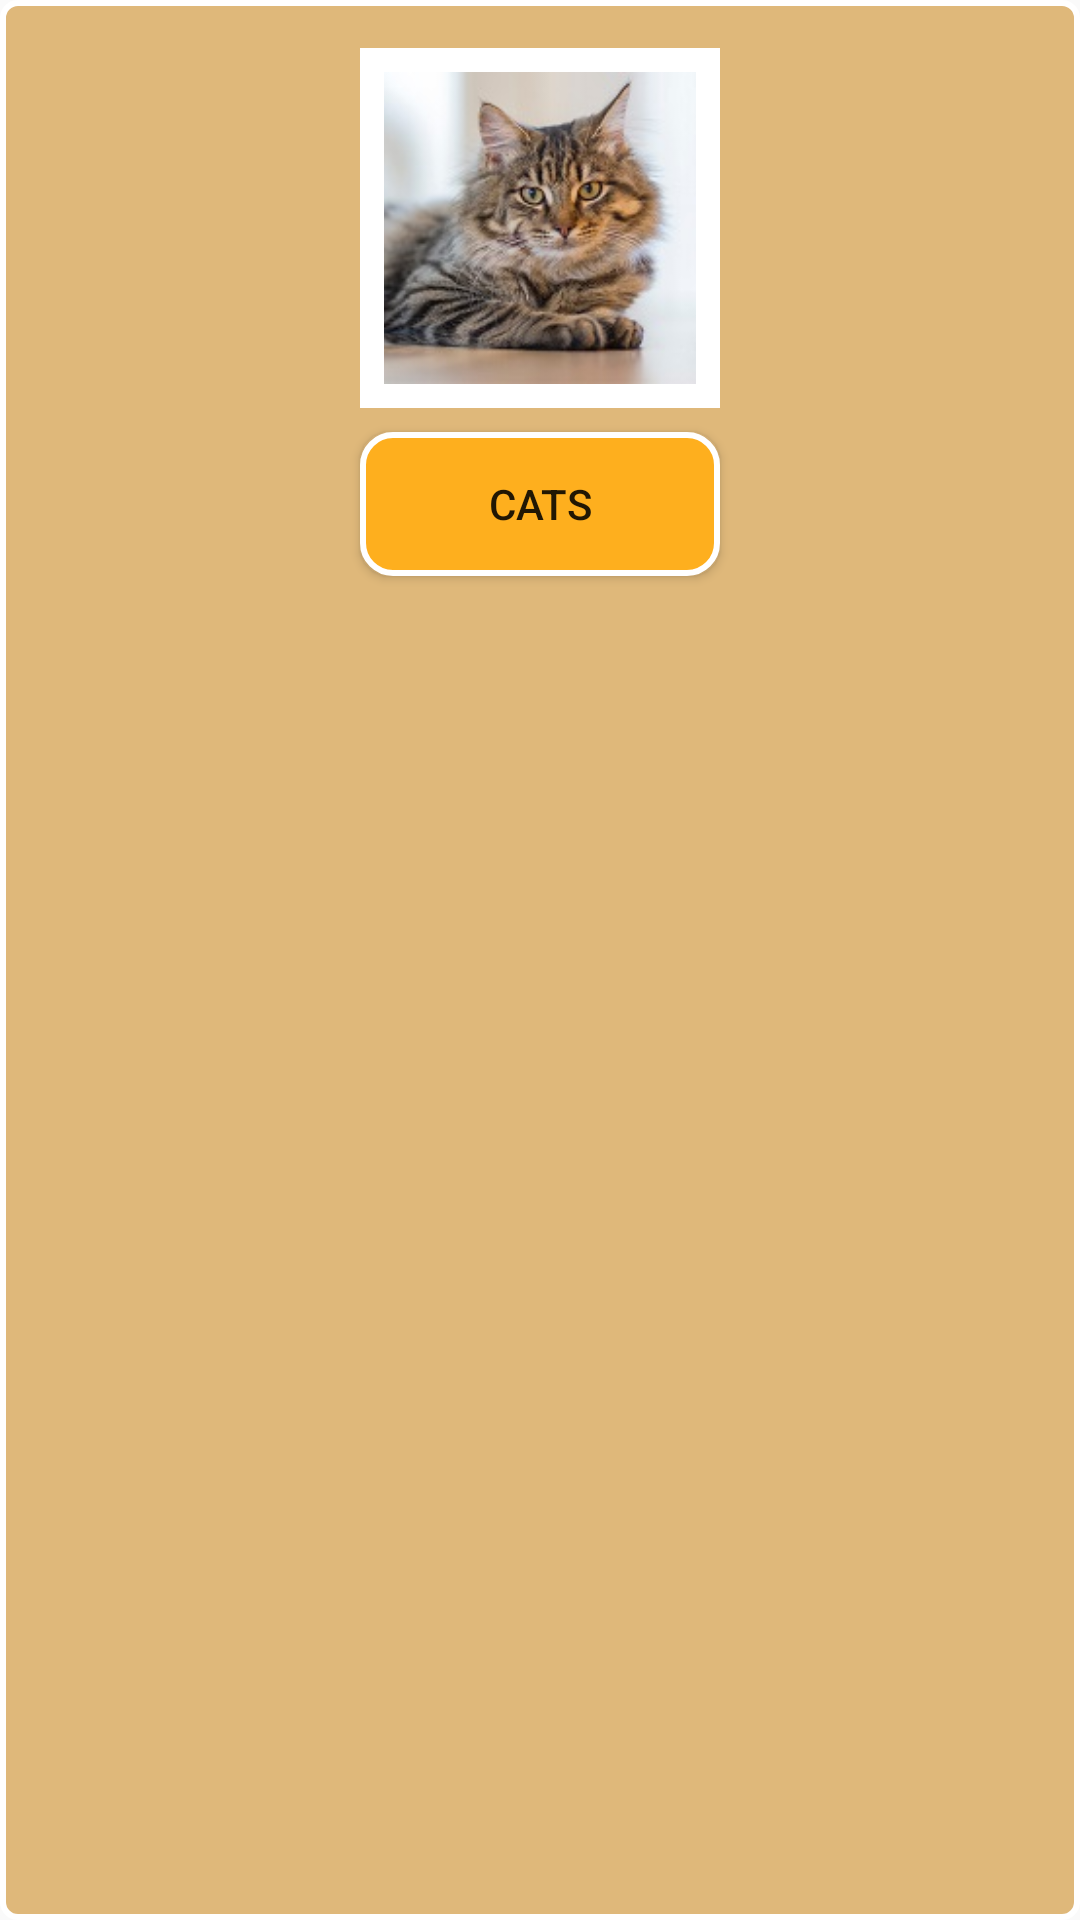

Named icons in this screenshot (1080x1920) and their bounding boxes, (x1, y1, x2, y2):
cat original: (360, 48, 720, 408)
